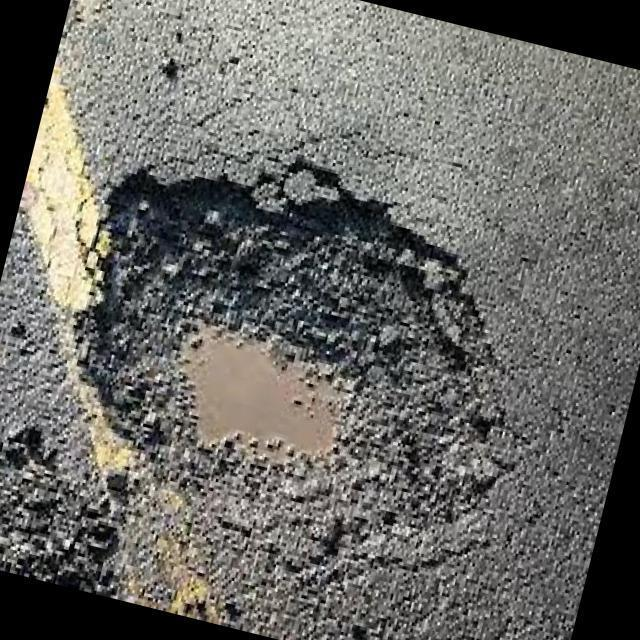Pothole: (72, 160, 474, 537)
